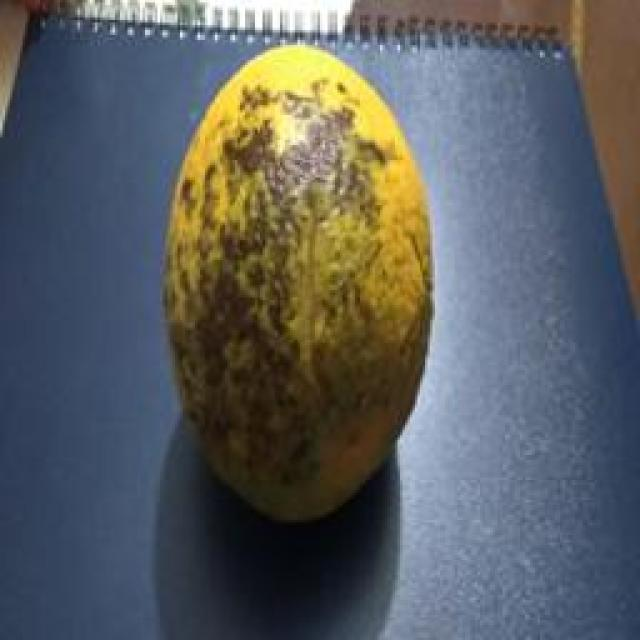Rotten_Orange: (154, 48, 454, 510)
